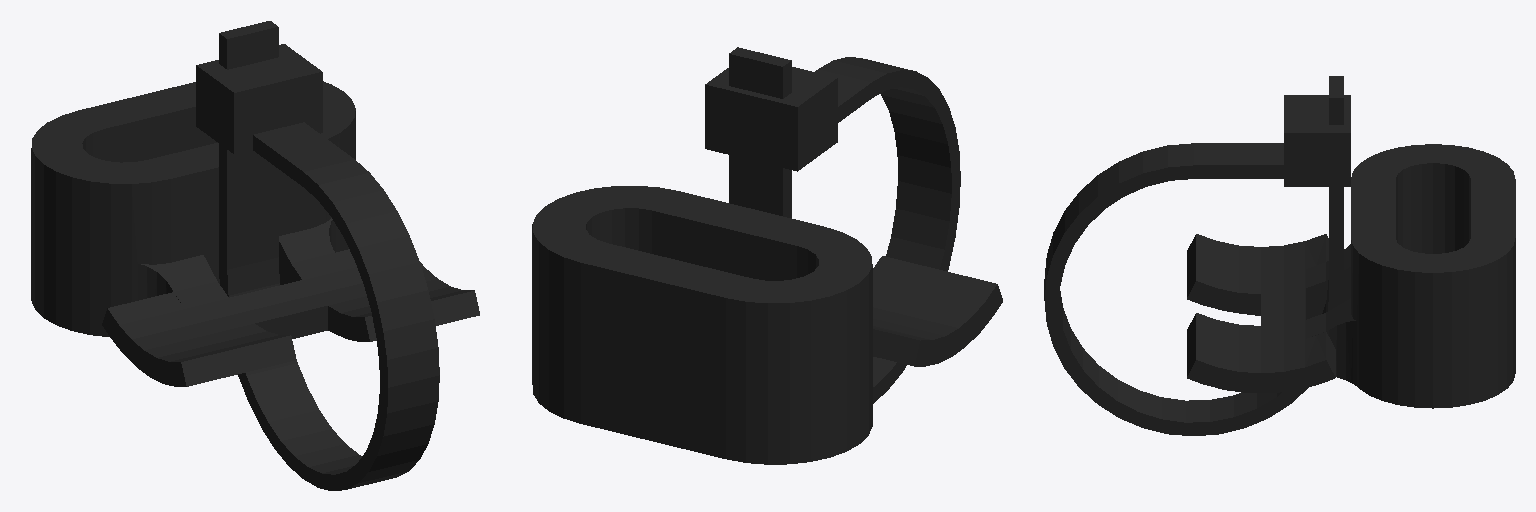
robot.urdf — Clip4:
<?xml version="1.0" encoding="utf-8"?>
<!-- This URDF was automatically created by SolidWorks to URDF Exporter! Originally created by [author] ([email redacted]) 
     Commit Version: 1.5.1-0-g916b5db  Build Version: 1.5.7152.31018
     For more information, please see http://wiki.ros.org/sw_urdf_exporter -->
<robot
  name="Clip4">
  <link
    name="Clips_4.SLDPRT">
    <inertial>
      <origin
        xyz="-2.2754E-12 0.0016872 0.00010253"
        rpy="0 0 0" />
      <mass
        value="0.0019621" />
      <inertia
        ixx="1.3142E-07"
        ixy="1.088E-17"
        ixz="2.8232E-17"
        iyy="9.5226E-08"
        iyz="3.8903E-09"
        izz="1.5172E-07" />
    </inertial>
    <visual>
      <origin
        xyz="0 0 0"
        rpy="1.5707963267949 0 0" />
      <geometry>
        <mesh
          filename="package://Clip4/meshes/Clips_4.SLDPRT.STL" />
      </geometry>
      <material
        name="">
        <color
          rgba="0.2 0.2 0.2 1" />
        <texture
          filename="package://Clip4/textures/" />
      </material>
    </visual>
    <collision>
      <origin
        xyz="0 0 0"
        rpy="1.5707963267949 0 0" />
      <geometry>
        <mesh
          filename="package://Clip4.SLDPRT/meshes/Clips_4.SLDPRT.STL" />
      </geometry>
    </collision>
  </link>
</robot>

--- Render facts (derived) ---
3 views of the same robot in one strip: view 1: azimuth 30°, elevation 25°; view 2: azimuth 150°, elevation 25°; view 3: azimuth 270°, elevation 25° (orthographic).
Robot: Clip4 — 1 links, 0 joints (none); root link Clips_4.SLDPRT; default pose: every joint at zero.
Links seen in each view (by area): view 1: Clips_4.SLDPRT; view 2: Clips_4.SLDPRT; view 3: Clips_4.SLDPRT.
Boxes of the visible links, x1,y1,x2,y2 form: Clips_4.SLDPRT: (31,21,479,490); Clips_4.SLDPRT: (532,47,1002,464); Clips_4.SLDPRT: (1044,76,1515,435).
Bounding box of the posed robot: 0.0204 × 0.0315 × 0.025 m (x, y, z).
Meshes: 1 distinct files referenced, 1 mesh visuals loaded (1 binary STL).